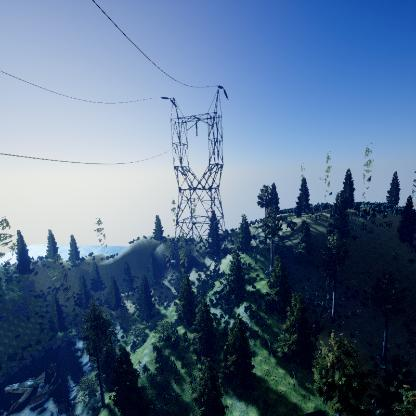tower: (162, 81, 231, 265)
